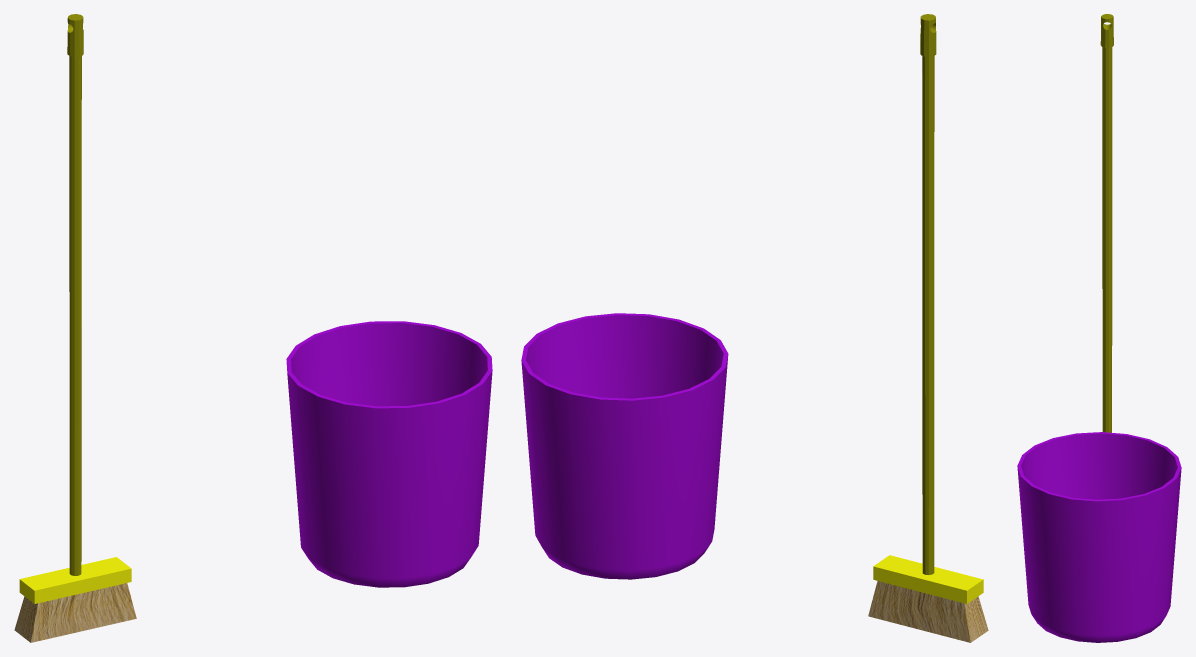
File: sf_mop.glb
The picture shows the model from 3 angles, left to right: view 1: azimuth 30°, elevation 25°; view 2: azimuth 150°, elevation 25°; view 3: azimuth 270°, elevation 25°; orthographic projection. The views are drawn at different scales.
Parts seen in each view (by area): view 1: pCylinder3_dark_yellow_0; view 2: pCylinder3_dark_yellow_0; view 3: pCylinder3_dark_yellow_0.
Boxes of the visible parts, x1=… form: pCylinder3_dark_yellow_0: x1=14, y1=14, x2=492, y2=642; pCylinder3_dark_yellow_0: x1=521, y1=14, x2=988, y2=642; pCylinder3_dark_yellow_0: x1=1017, y1=14, x2=1181, y2=642.
Bounding box in the file's own units: 0.8554 × 1.1 × 0.341.
4 materials, 1 textured.
